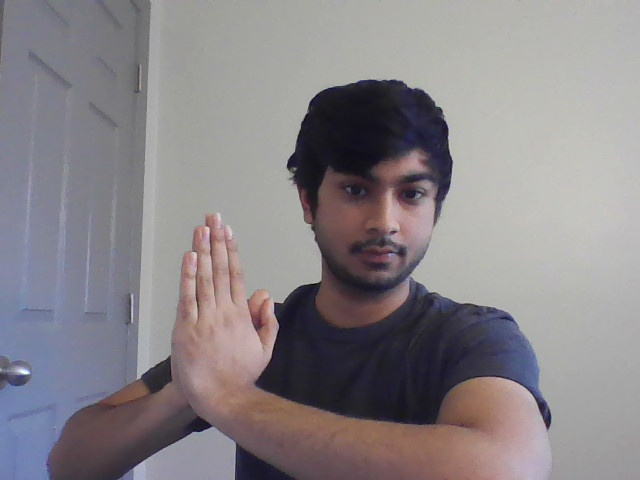start: (170, 208, 279, 424)
